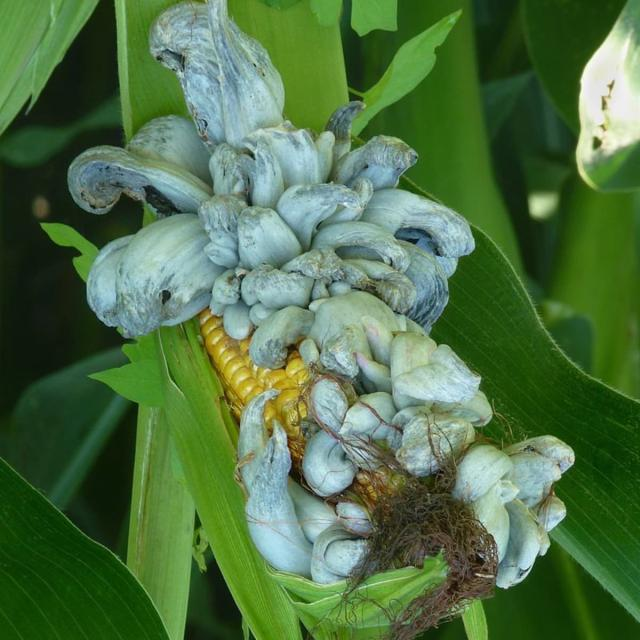Leaf_Scald: (29, 12, 580, 624)
